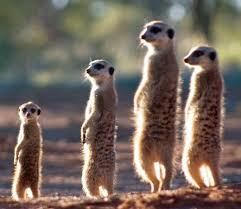meerkat: (130, 13, 179, 196), (69, 55, 124, 208), (178, 42, 227, 194), (10, 97, 57, 204)
